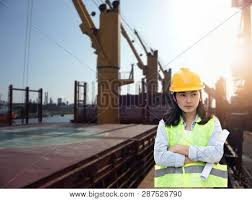Person_wearing_helmet: (164, 65, 208, 97)
